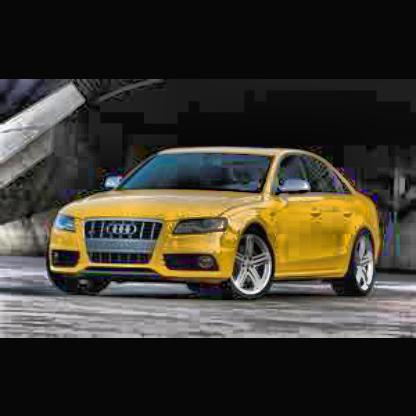Audi S4 Sedan 2012: (45, 148, 386, 308)
